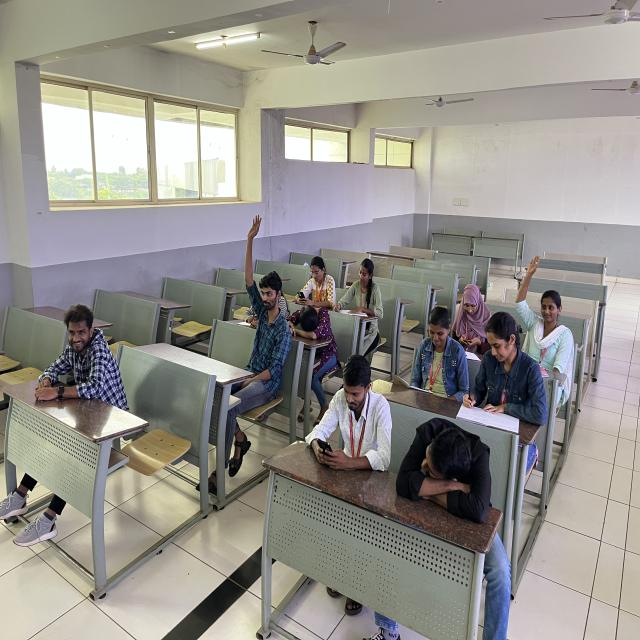Hand Rising: (222, 199, 293, 381), (516, 249, 581, 378)
Reading: (394, 297, 468, 397)
Sleeping: (394, 404, 498, 530), (289, 296, 338, 344)
Using Phone: (306, 343, 393, 490), (293, 233, 338, 306), (452, 266, 492, 348)
Writing: (464, 311, 550, 427), (336, 248, 386, 332)
